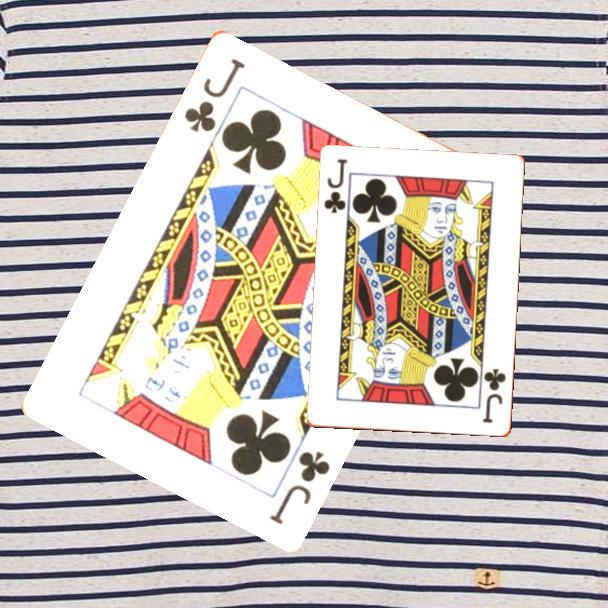c11: (180, 54, 248, 135), (265, 446, 333, 527), (321, 156, 351, 217), (480, 366, 509, 426)
